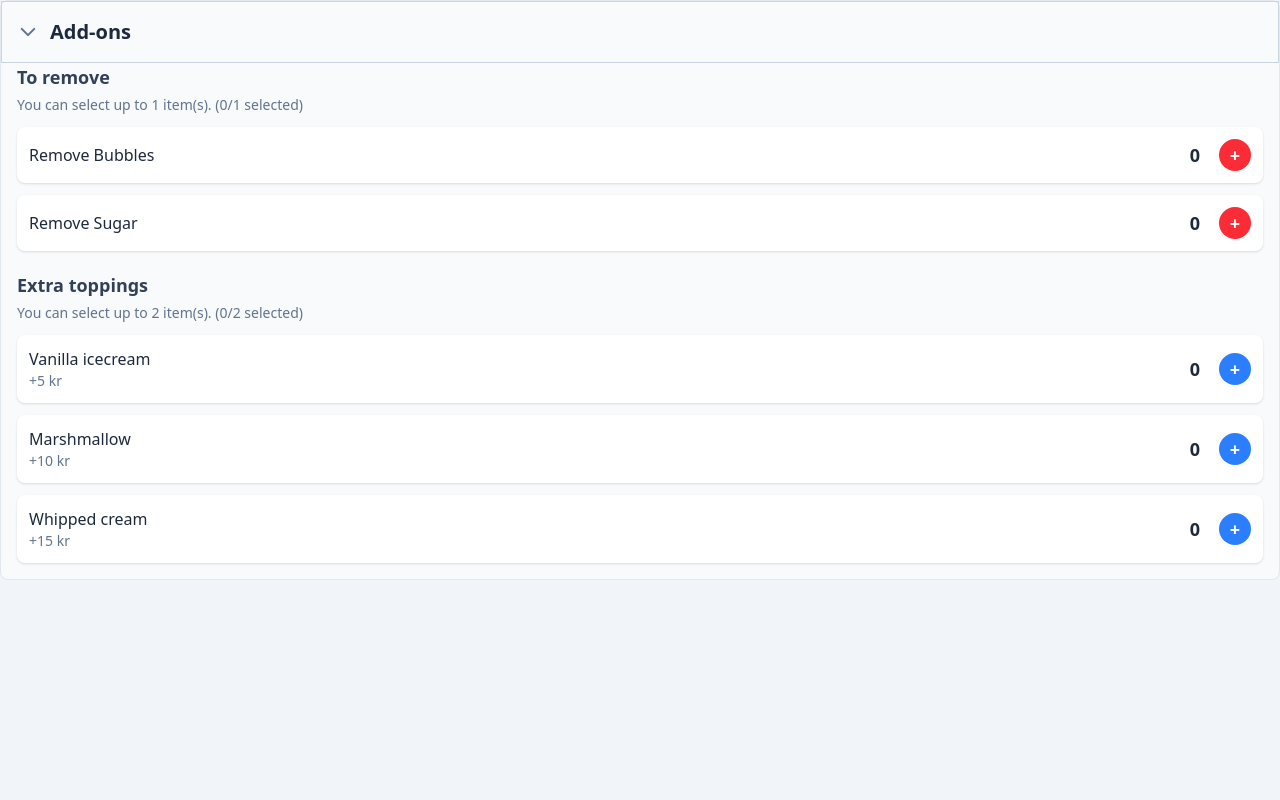
AddonSelector › should disable the add button when the item limit is reached
The width and height of the screenshot is (1280, 800).
Click the button "+" in the row of "Vanilla icecream": (1235, 369) [1219,353,1251,385]
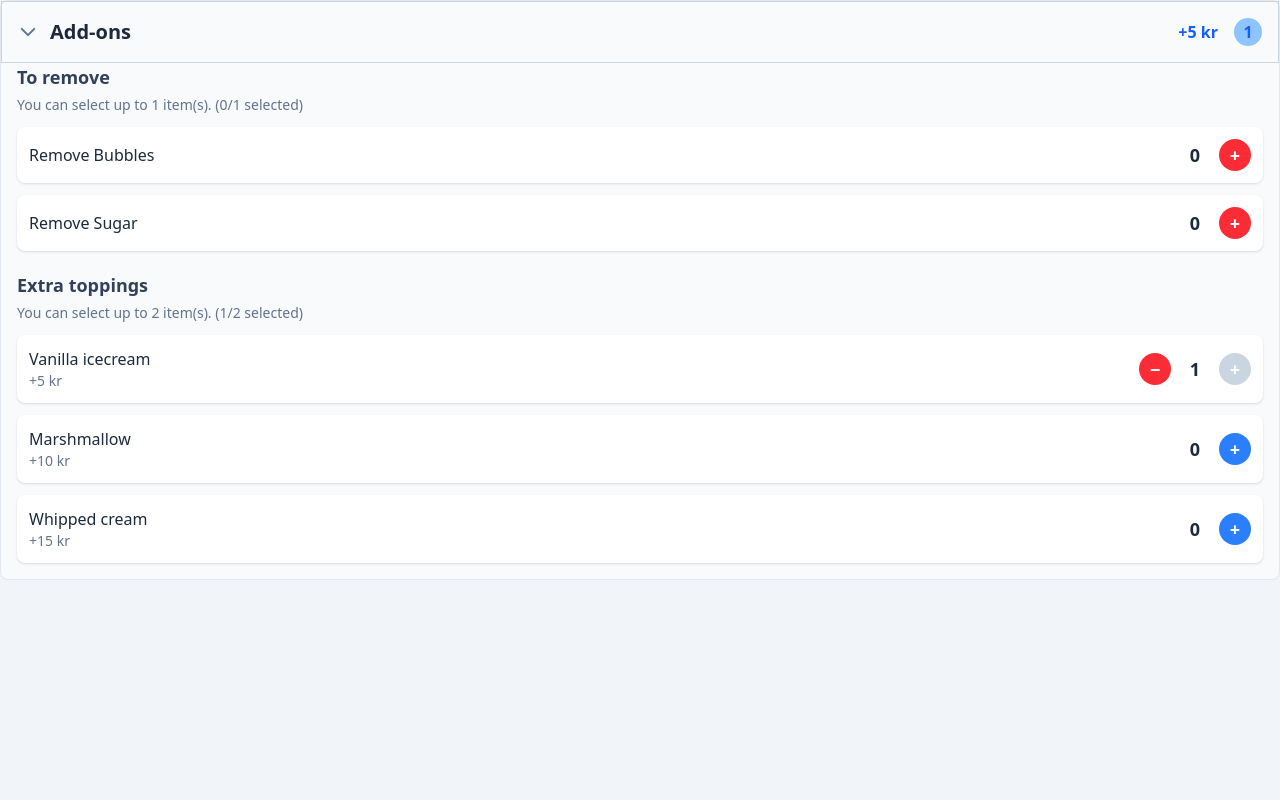
Now the button "+" in the row of "Vanilla icecream" is disabled, box [1219,353,1251,385]
